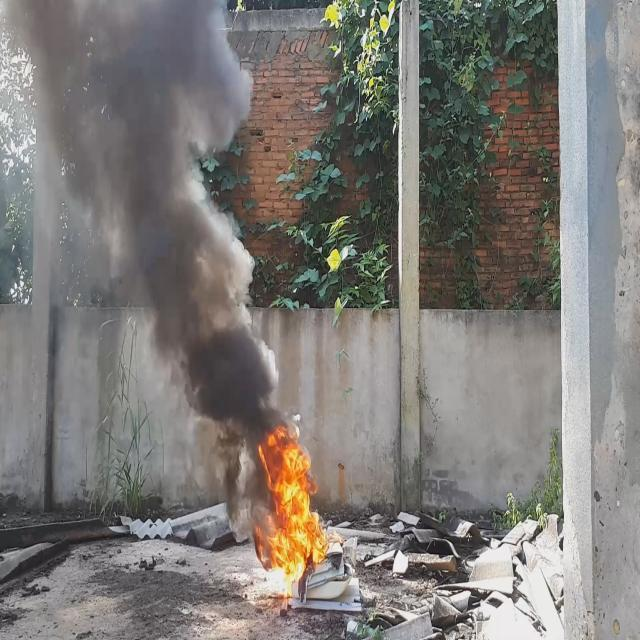Fire: (252, 413, 330, 583)
Smoke: (0, 0, 278, 528)
